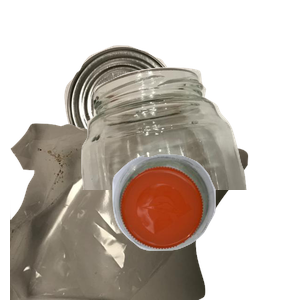glass: (74, 65, 300, 245)
metal: (62, 43, 232, 198)
plastic: (110, 152, 300, 300)
trash: (10, 120, 250, 300)
